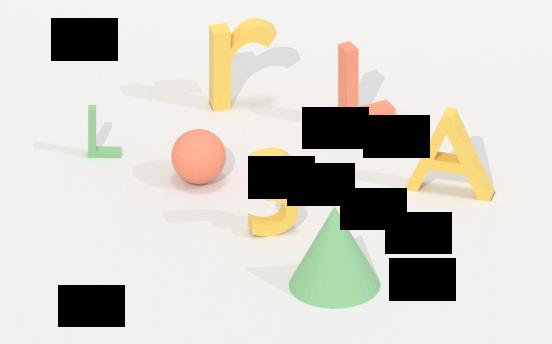3: (248, 146, 301, 240)
A-hoa: (405, 104, 498, 207)
R: (206, 17, 280, 113)
cau: (171, 126, 228, 189)
l: (335, 36, 399, 133), (85, 100, 124, 161)
non: (289, 203, 382, 312)
